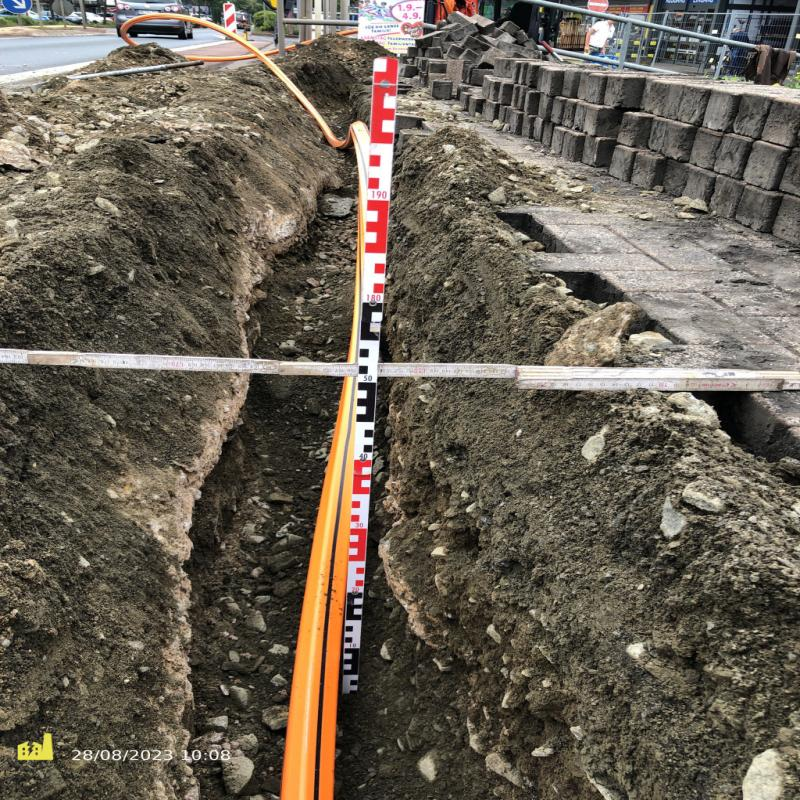Orang-Speednetrohrchen: (281, 377, 353, 800), (209, 23, 370, 188)
